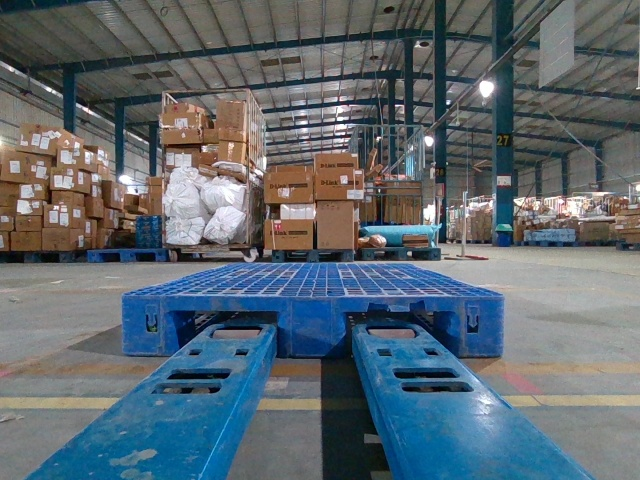block: (277, 293, 351, 358), (120, 293, 184, 359), (454, 293, 503, 358)
front: (123, 293, 503, 356)
hole pallet: (343, 303, 463, 360), (173, 308, 290, 359)
